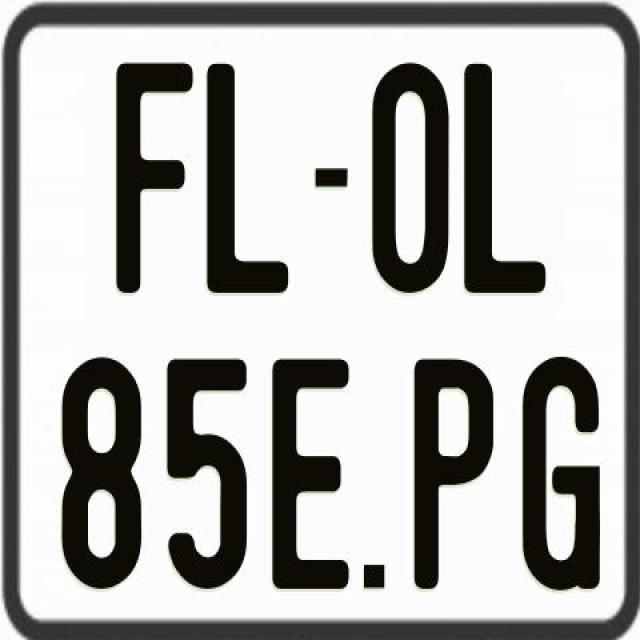0: (368, 58, 451, 288)
5: (162, 353, 250, 592)
8: (57, 356, 143, 590)
E: (269, 354, 351, 586)
F: (113, 58, 196, 294)
G: (518, 354, 600, 590)
L: (461, 60, 548, 298), (202, 59, 286, 291)
P: (410, 357, 492, 597)
